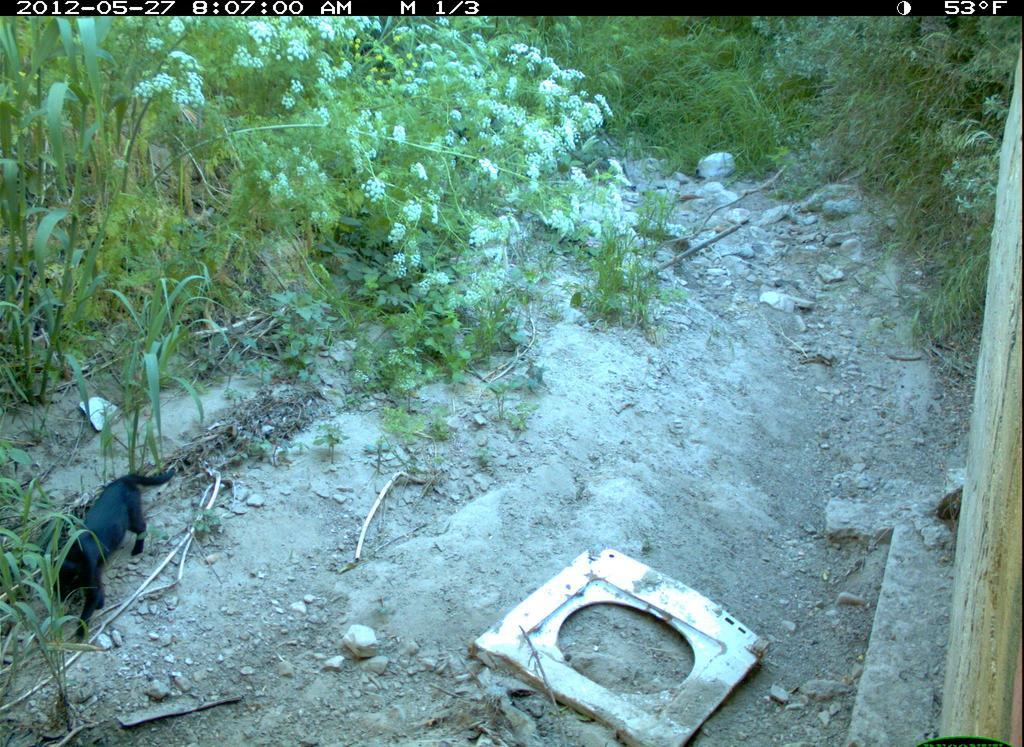cat: (17, 456, 189, 642)
